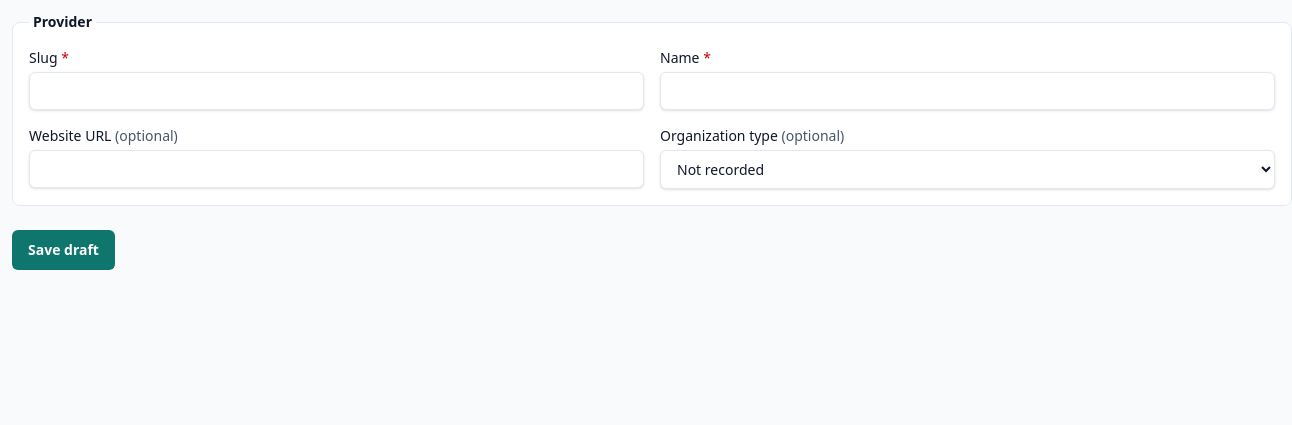
Test: DraftForm › shows an error summary linked to each invalid field and does not submit
Type "Bad Slug" into the field labelled "Slug *" at {"x": 336, "y": 91}, box x1=29 y1=72 x2=644 y2=110
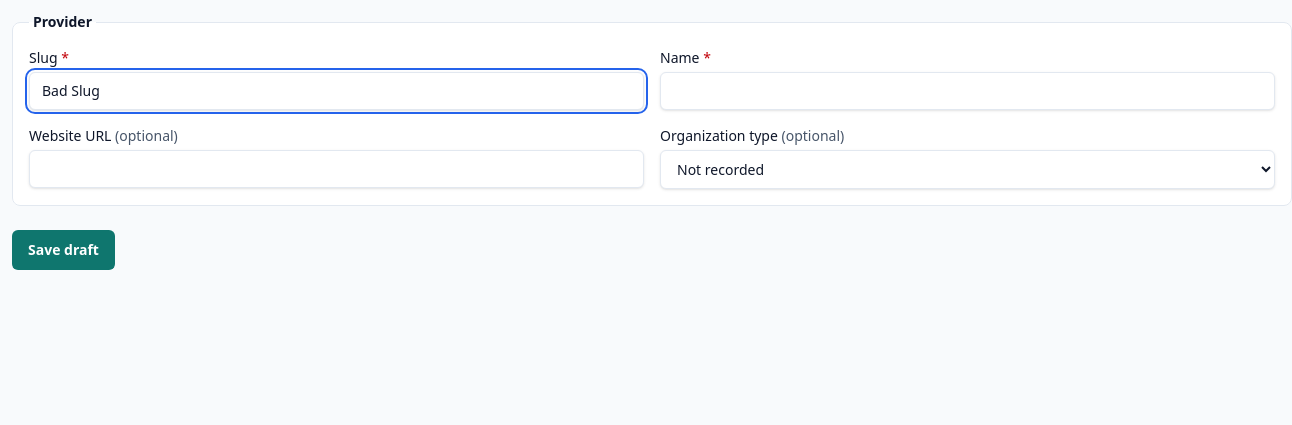
Click the button "Save draft" at {"x": 64, "y": 250}, box x1=12 y1=230 x2=115 y2=270
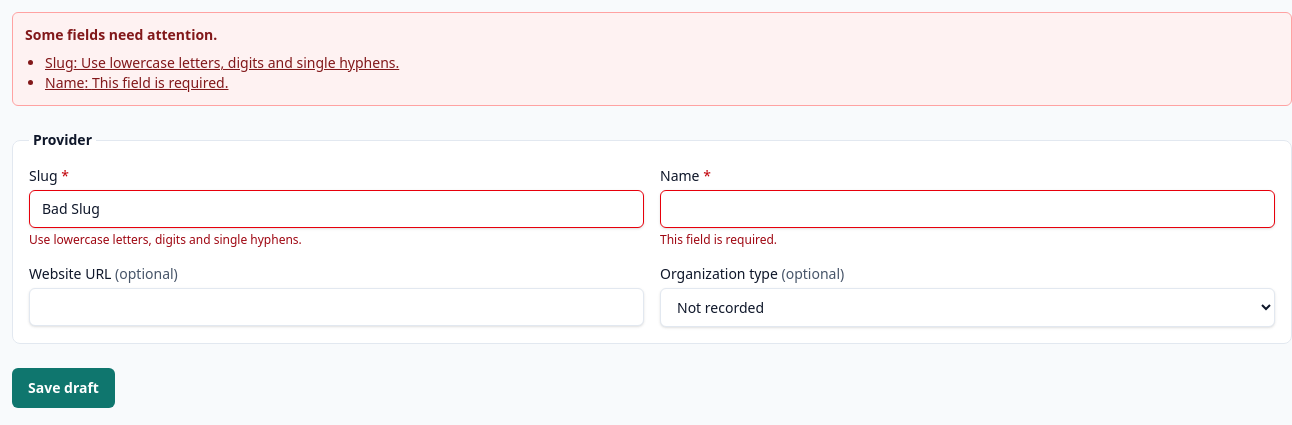
Result: the message shows "Some fields need attention." at x1=25 y1=25 x2=217 y2=44
